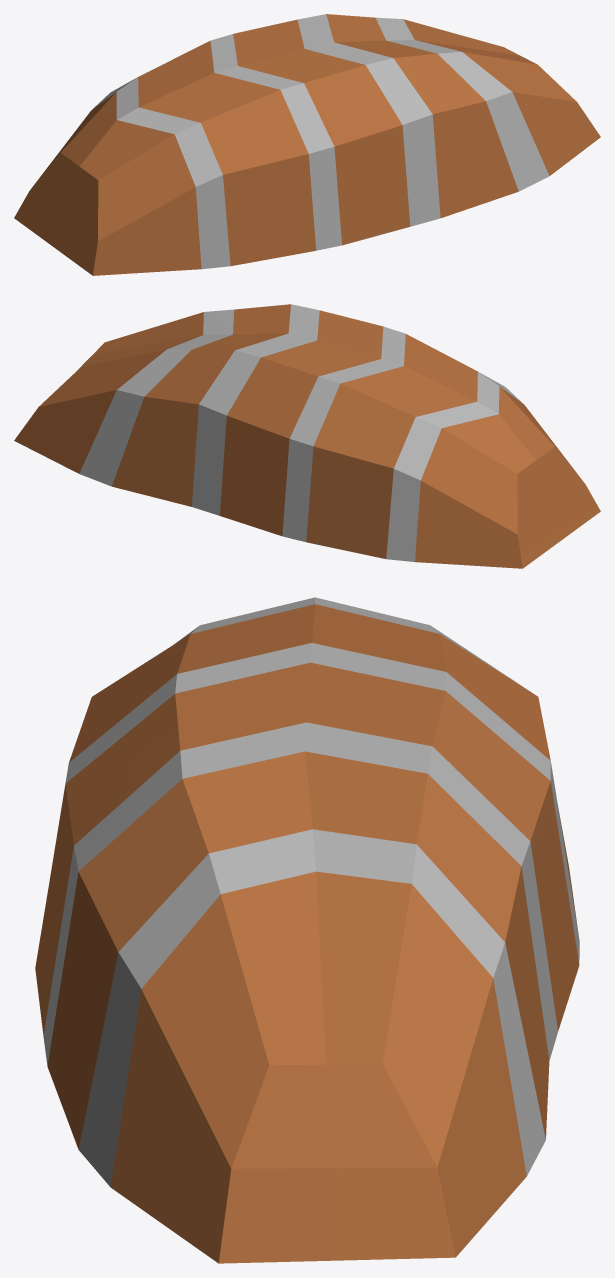
File: sashimi_salmon.glb
3 renders of one model, top to bottom at view 1: azimuth 30°, elevation 25°; view 2: azimuth 150°, elevation 25°; view 3: azimuth 270°, elevation 25°, orthographic. The views are drawn at different scales.
Visible parts, largest first — view 1: Salmon; view 2: Salmon; view 3: Salmon.
Boxes of the visible parts, x1,y1,x2,y2 form: Salmon: [14, 14, 600, 275]; Salmon: [14, 304, 600, 568]; Salmon: [35, 597, 579, 1263].
Bounding box in the file's own units: 0.5976 × 0.1518 × 0.2716.
